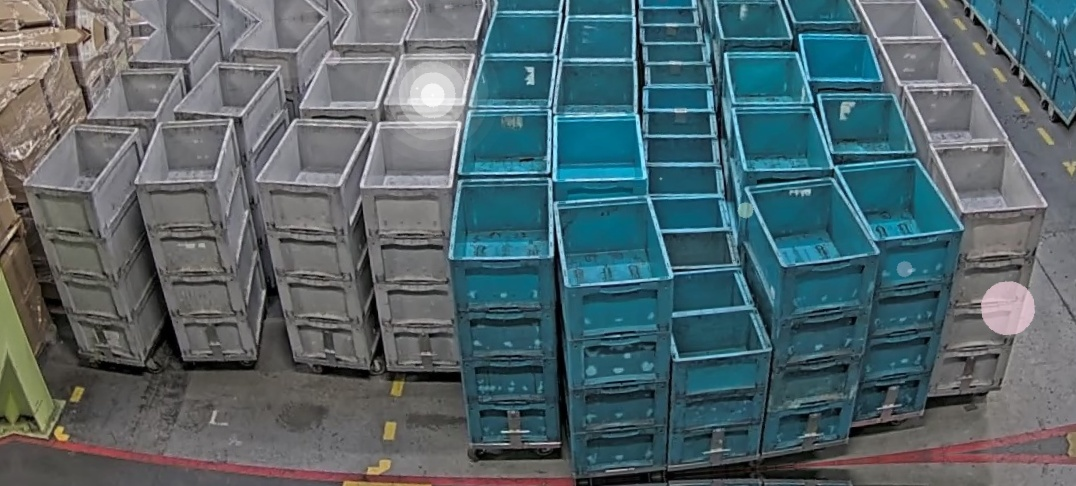4G: (907, 134, 1063, 398), (18, 118, 171, 370), (251, 112, 391, 377), (129, 115, 272, 369), (354, 116, 481, 379)
B4: (739, 167, 891, 454), (832, 154, 979, 423), (553, 193, 689, 476), (442, 172, 573, 450)
B8: (652, 265, 781, 466)
